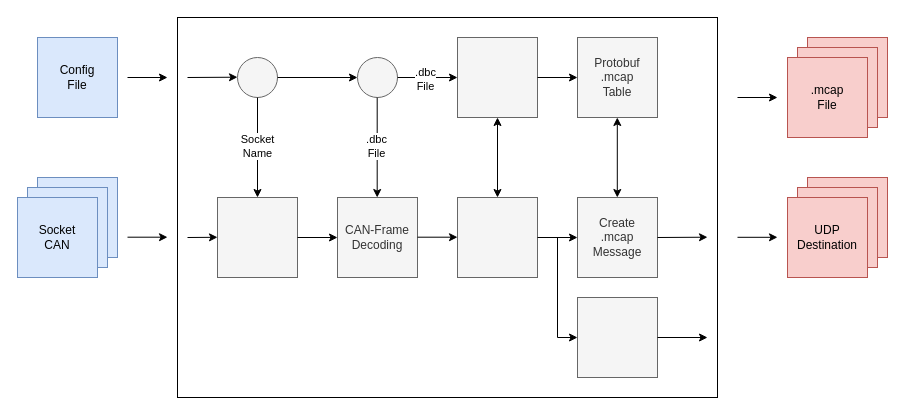
This 905x415 diagram has some shape labels left out. The shapes that lost their labels are listed below. From the top down, each one's box as (x1, y1, x2, y2) in pixels, then its label:
(456, 36, 538, 118): CAN-Frame Protobuf Table
(216, 196, 298, 278): Async Socket Read
(456, 196, 538, 278): Protobuf Encoding
(576, 296, 658, 378): Create Udp Message
